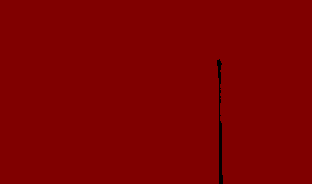Sky: (1, 1, 311, 183)
